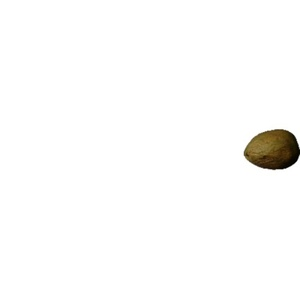mamão: (241, 124, 296, 175)
